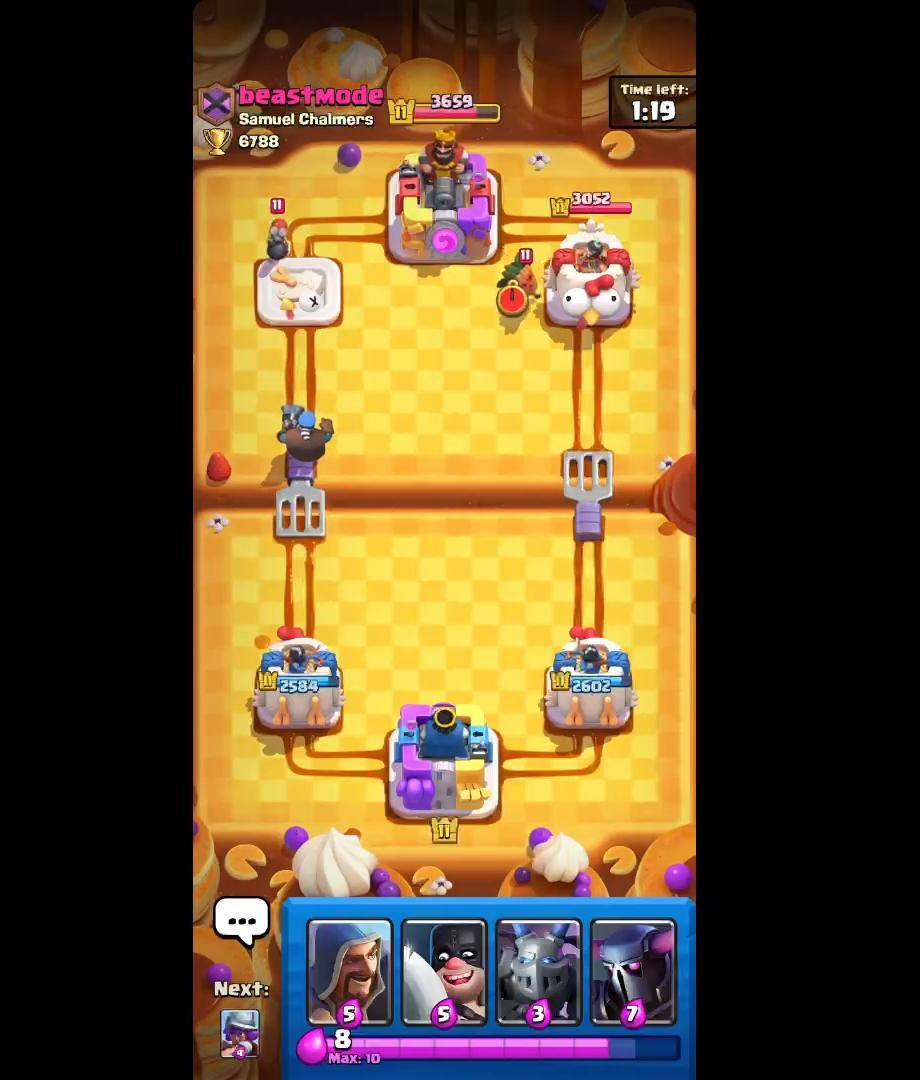Bomber: (263, 190, 295, 271)
